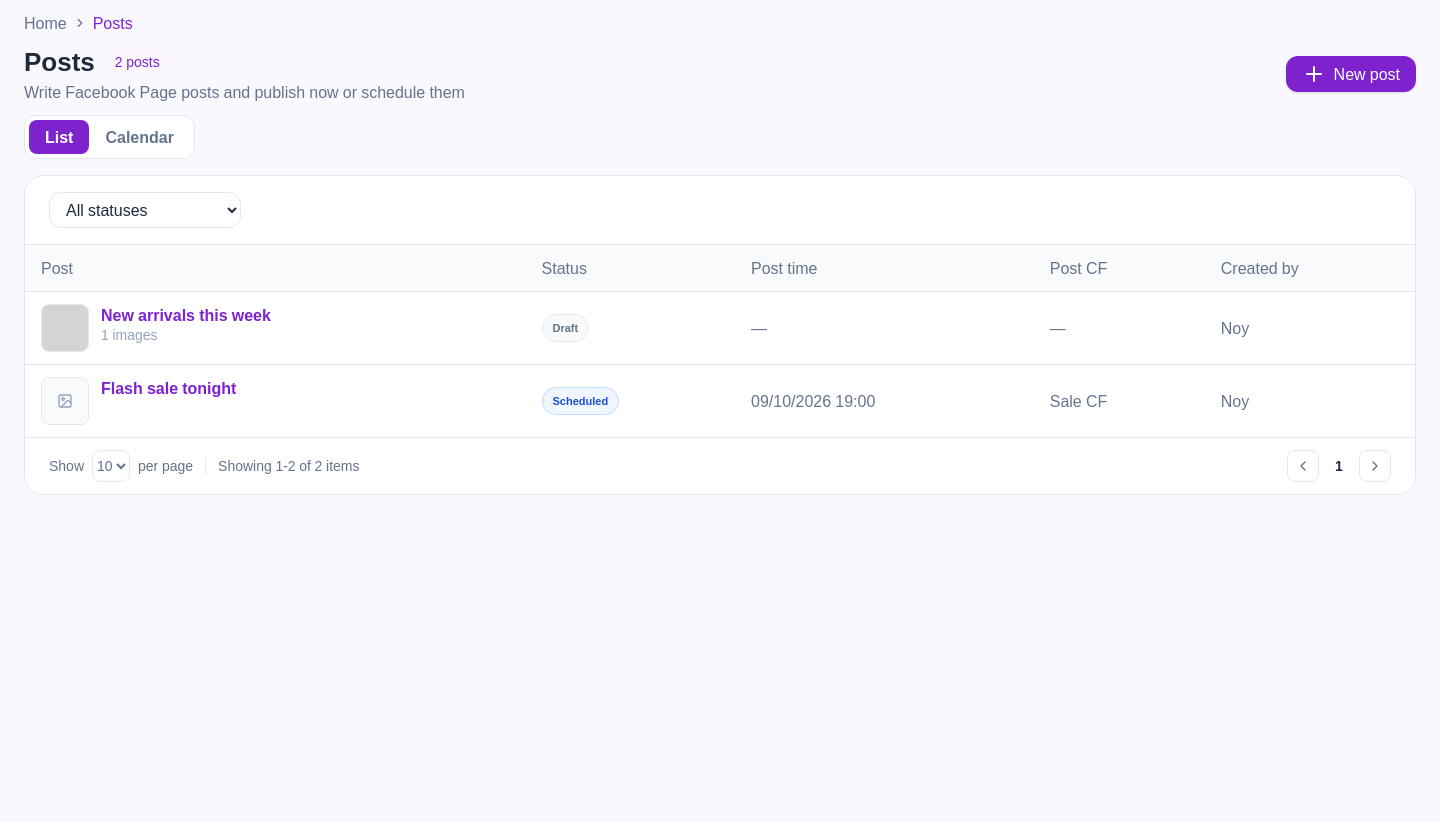
Test: PostList › ປະຕິທິນ: ດຶງຊ່ວງເດືອນ (ເວລາລາວ), ວາງໂພສຕາມວັນລາວ, ເລື່ອນເດືອນ
Click the tab "Calendar" at coordinates (140, 136), box [90,120,190,154]
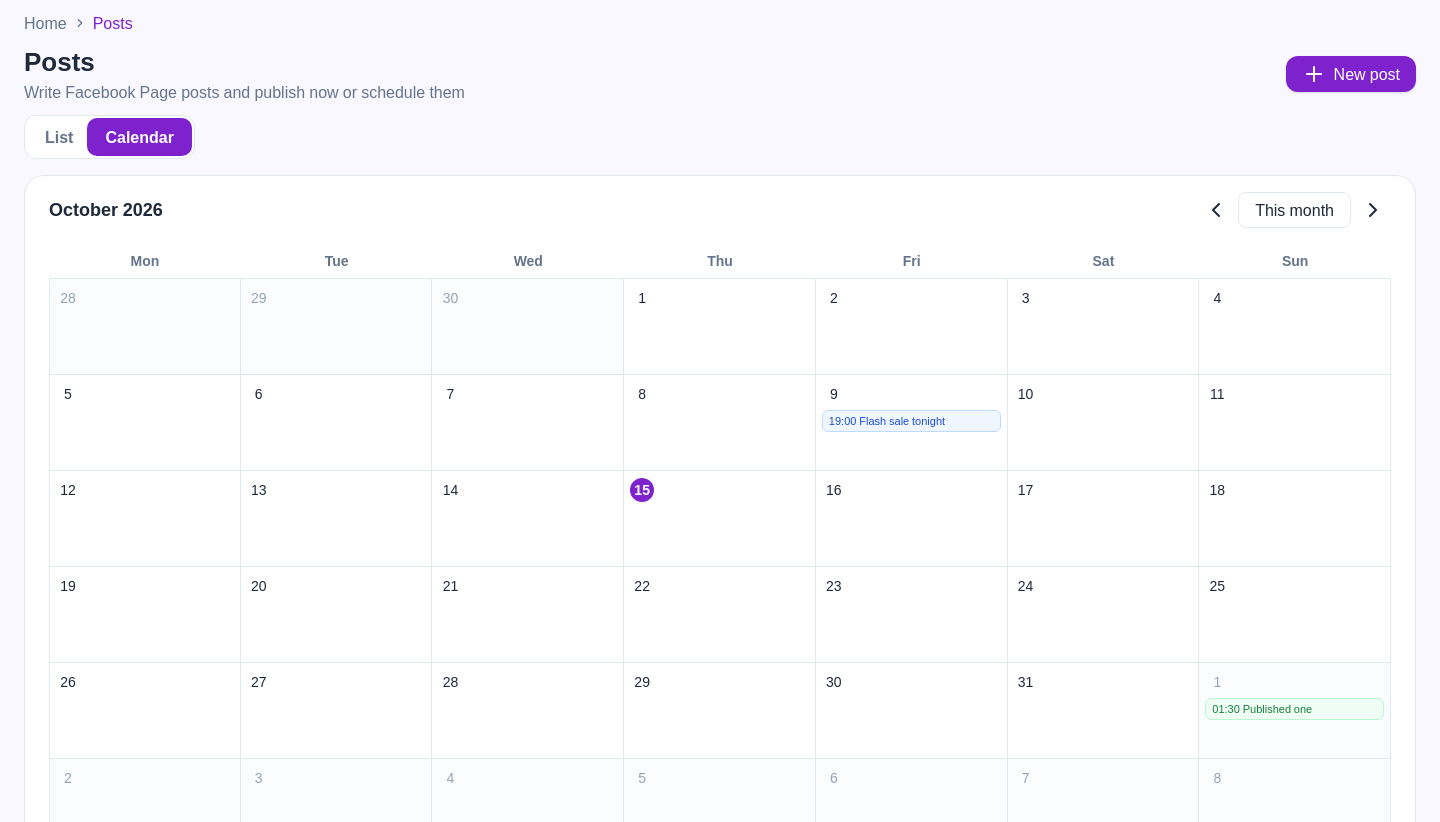
Check: the heading "October 2026" is shown, box [49,196,163,222]
Check: the link "19:00 Flash sale tonight" is shown, box [822,410,1000,432]
Check: the link "01:30 Published one" is shown, box [1205,698,1384,720]
Click the button named "Next month" at coordinates (1373, 210), box [1355,192,1391,228]
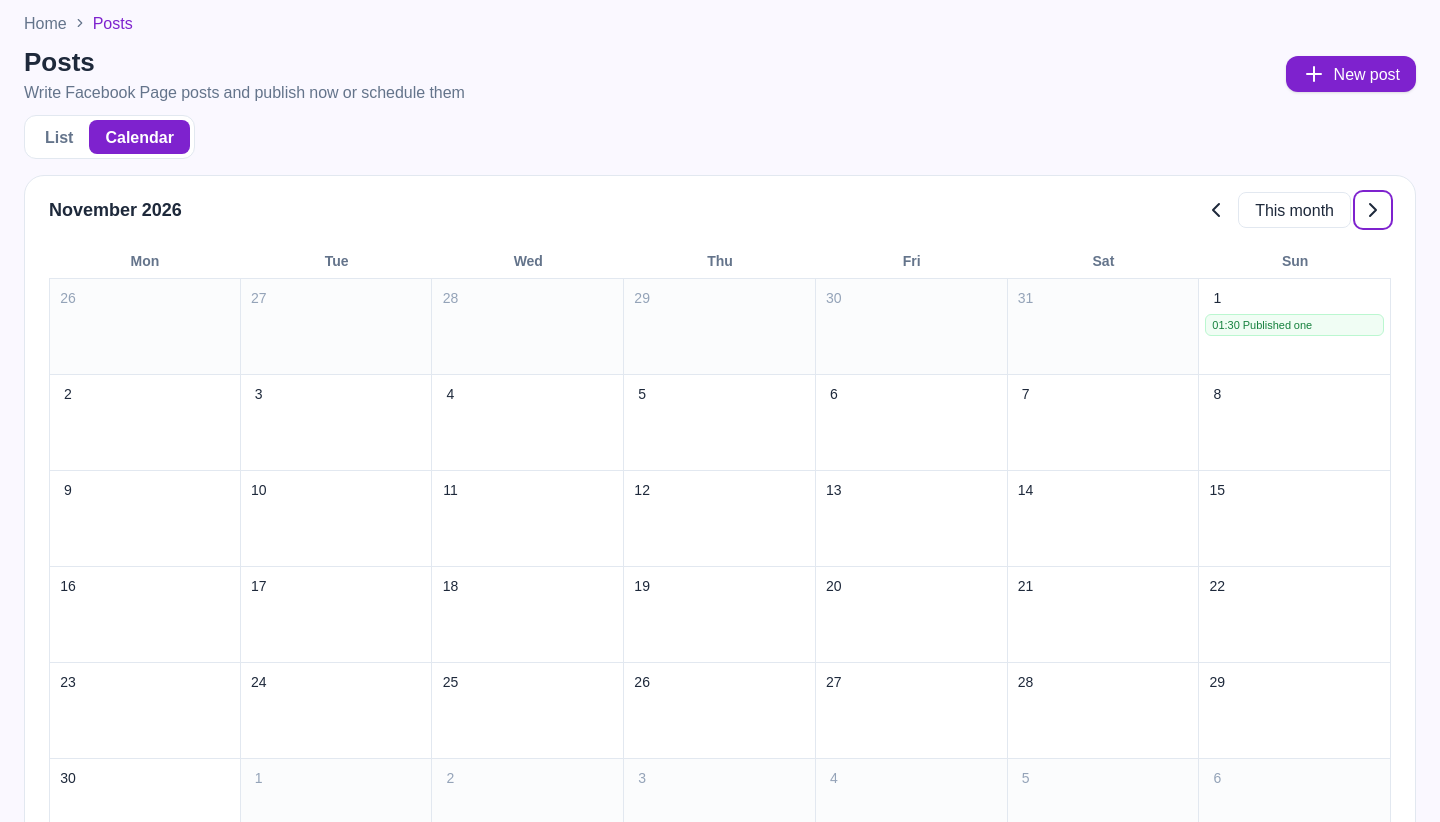
Check: the heading "November 2026" is shown, box [49,196,182,222]
